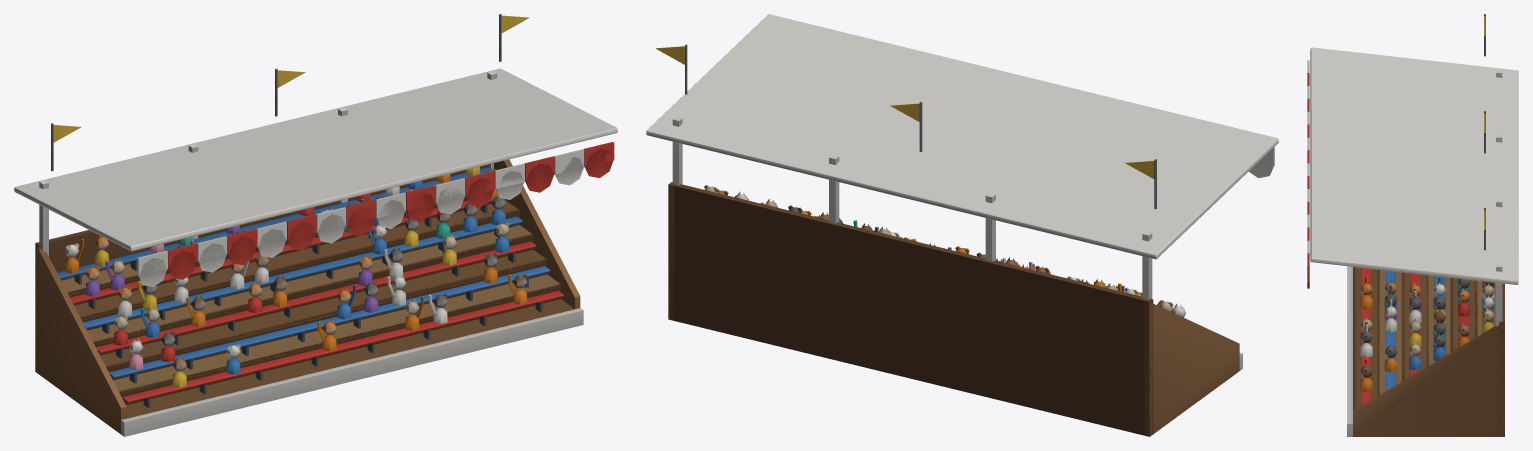
File: prop.grandstand.glb
3 views of the same model, side by side, from view 1: azimuth 30°, elevation 25°; view 2: azimuth 150°, elevation 25°; view 3: azimuth 270°, elevation 25° (orthographic). The views are drawn at different scales.
Parts seen in each view (by area): view 1: grandstand; view 2: grandstand; view 3: grandstand.
Boxes of the visible parts, x1,y1,x2,y2 form: grandstand: (14, 14, 617, 436); grandstand: (646, 14, 1278, 436); grandstand: (1307, 14, 1518, 436).
Size of the model in its own units: 17.74 by 8.7 by 7.37.
